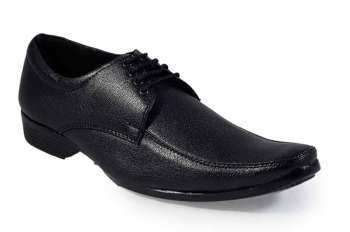Footwear: (16, 30, 327, 206)
